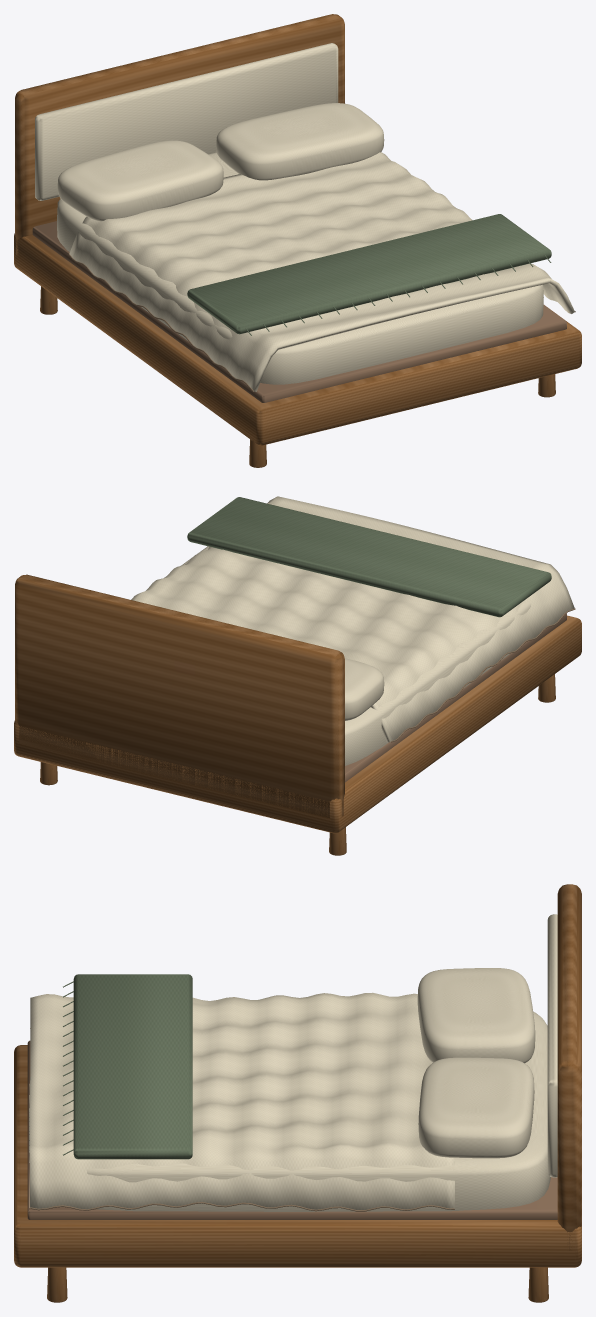
The model's file is bed.glb.
The picture shows the model from 3 angles, top to bottom: view 1: azimuth 30°, elevation 25°; view 2: azimuth 150°, elevation 25°; view 3: azimuth 270°, elevation 25°; orthographic projection. The views are drawn at different scales.
Visible parts, largest first — view 1: bed-mesh; view 2: bed-mesh; view 3: bed-mesh.
Part boxes in pixels (x1,y1,x2,y2): bed-mesh: (14, 14, 581, 467); bed-mesh: (14, 496, 581, 855); bed-mesh: (14, 884, 581, 1302).
Bounding box in the file's own units: 1.6 × 1 × 2.1.
5 materials, 4 textured.
